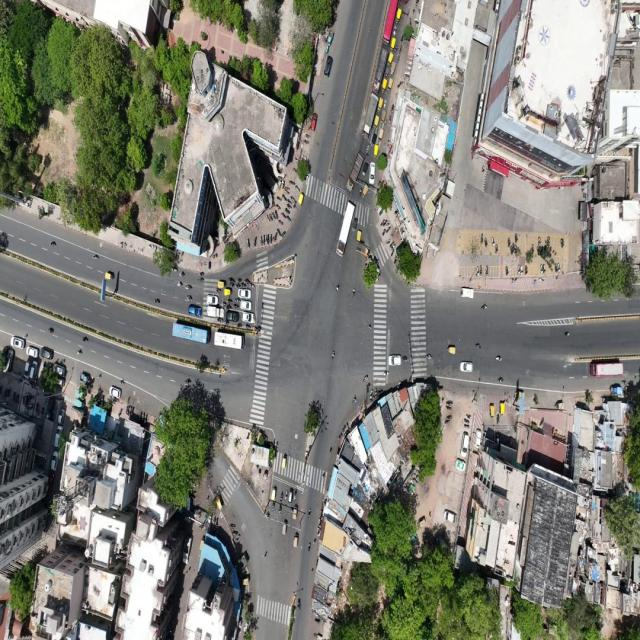3W: (278, 452, 290, 471), (445, 342, 457, 358), (214, 494, 224, 512), (291, 532, 300, 551), (488, 402, 497, 419), (280, 518, 288, 536), (270, 484, 278, 502), (104, 269, 114, 283), (297, 191, 305, 208), (292, 503, 299, 521), (390, 61, 398, 76), (362, 184, 370, 199), (356, 230, 363, 246), (362, 160, 368, 178), (388, 76, 393, 96), (373, 144, 380, 158), (352, 218, 359, 232), (500, 402, 506, 418), (382, 78, 388, 94), (217, 279, 226, 289), (223, 287, 233, 296), (390, 37, 396, 52), (387, 52, 393, 67), (374, 114, 380, 129), (378, 96, 383, 114), (378, 128, 384, 142), (397, 9, 402, 24), (371, 132, 376, 145)
Bus: (584, 353, 628, 381), (166, 320, 212, 346), (213, 331, 246, 353)
Cars: (7, 332, 26, 352), (458, 283, 477, 302), (49, 425, 66, 446), (386, 350, 403, 368), (460, 431, 470, 460), (322, 56, 334, 79), (443, 508, 459, 524), (52, 362, 67, 378), (185, 304, 202, 318), (458, 361, 476, 374), (49, 450, 58, 476), (30, 358, 39, 383), (26, 342, 39, 359), (40, 346, 55, 359), (204, 294, 220, 306), (310, 110, 318, 134), (236, 288, 252, 300), (56, 408, 67, 424), (369, 162, 376, 187), (109, 386, 122, 399), (240, 312, 256, 322), (240, 300, 253, 312), (226, 310, 240, 321), (22, 359, 30, 378), (288, 486, 292, 504)
LCV: (204, 306, 224, 319)
M2W: (49, 234, 58, 251), (89, 252, 101, 264), (304, 506, 313, 520), (45, 324, 55, 336), (80, 334, 90, 346), (494, 351, 503, 364), (474, 339, 482, 353), (479, 303, 490, 313), (497, 376, 506, 388), (563, 327, 571, 340), (246, 235, 252, 252), (424, 351, 433, 362), (184, 294, 195, 303), (334, 280, 341, 294), (116, 377, 128, 385), (280, 190, 288, 202), (504, 235, 511, 248), (305, 540, 312, 553), (559, 236, 565, 251), (279, 488, 285, 503), (350, 284, 356, 299), (253, 234, 258, 251), (484, 264, 490, 278), (269, 502, 276, 514), (331, 347, 337, 361), (363, 369, 369, 383), (153, 294, 160, 306), (275, 202, 283, 212), (514, 231, 520, 244), (443, 399, 455, 405), (464, 410, 473, 418), (504, 264, 510, 276), (277, 504, 283, 516), (352, 392, 358, 404), (74, 348, 82, 357), (178, 270, 187, 278), (198, 270, 207, 278), (284, 207, 292, 216), (294, 487, 299, 501), (265, 212, 270, 226), (392, 24, 397, 38), (536, 234, 542, 245), (490, 235, 495, 248), (520, 262, 524, 278), (462, 418, 471, 425), (402, 355, 409, 364), (176, 279, 183, 288), (244, 322, 251, 331), (496, 414, 501, 426), (445, 413, 455, 419), (524, 264, 529, 276), (284, 487, 288, 502), (312, 537, 318, 547), (258, 234, 262, 249), (278, 217, 284, 227), (365, 144, 370, 156), (357, 186, 362, 198), (385, 238, 391, 248), (479, 264, 483, 278), (517, 263, 521, 277), (186, 283, 193, 291), (289, 178, 296, 186), (236, 322, 243, 330), (444, 404, 453, 410), (462, 424, 471, 430), (97, 372, 103, 381), (197, 278, 206, 284), (236, 276, 242, 285), (244, 276, 250, 285), (384, 68, 390, 77), (475, 265, 479, 278), (543, 263, 547, 276), (264, 234, 268, 247), (539, 264, 544, 274), (368, 321, 373, 331), (381, 229, 386, 239), (386, 217, 391, 227), (215, 288, 222, 295), (225, 297, 232, 304), (445, 419, 453, 425), (480, 232, 484, 244), (495, 243, 499, 255), (270, 231, 273, 247), (290, 195, 296, 203), (397, 52, 401, 64), (383, 118, 389, 126), (380, 217, 386, 225), (390, 248, 395, 257), (228, 276, 234, 283), (230, 281, 236, 288), (272, 210, 276, 220), (250, 281, 255, 289), (383, 99, 387, 109), (234, 297, 240, 303), (220, 302, 226, 308)
Truck: (336, 201, 356, 261), (359, 93, 379, 142), (344, 149, 365, 192), (371, 44, 389, 94)
